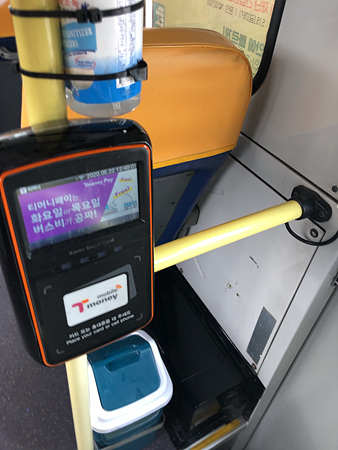terminal: (7, 120, 154, 350)
